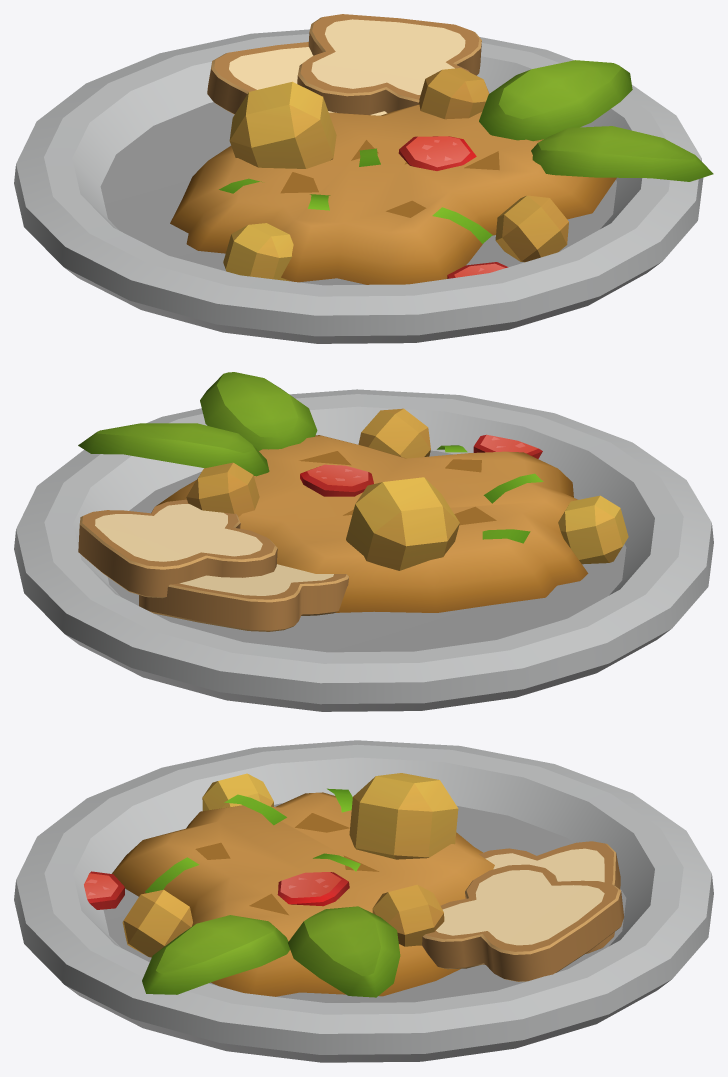
Rendered from Dish_4_LV_5.glb.
3 renders of one model, top to bottom at view 1: azimuth 30°, elevation 25°; view 2: azimuth 150°, elevation 25°; view 3: azimuth 270°, elevation 25°, orthographic.
Parts seen in each view (by area): view 1: Dish_4_LV_5; view 2: Dish_4_LV_5; view 3: Dish_4_LV_5.
Part boxes in pixels (x1=…): Dish_4_LV_5: x1=14, y1=14, x2=713, y2=343; Dish_4_LV_5: x1=14, y1=372, x2=713, y2=711; Dish_4_LV_5: x1=14, y1=740, x2=713, y2=1062.
Size of the model in its own units: 0.4937 by 0.1143 by 0.4943.
Materials: 1 (1 with a texture image).
